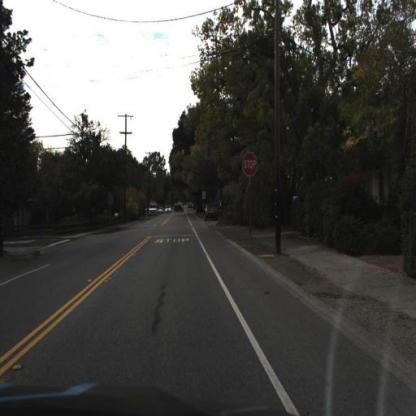car: (206, 197, 227, 223), (144, 202, 159, 218), (175, 200, 185, 217), (166, 206, 172, 215)
